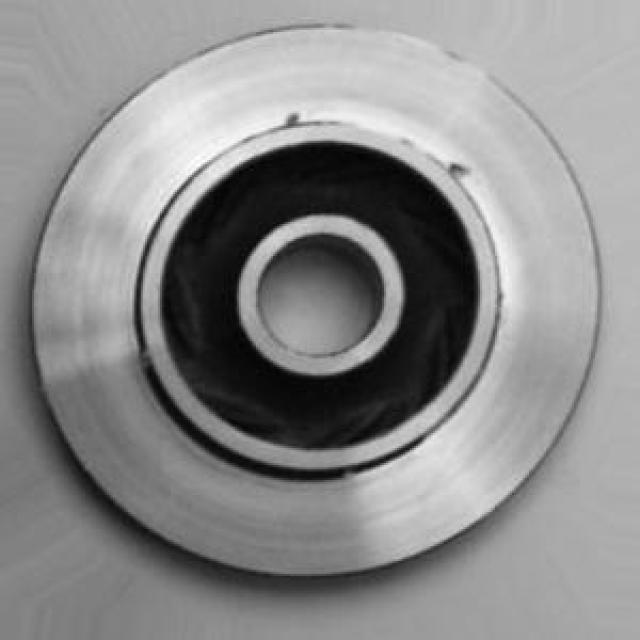Defect: (438, 152, 484, 184), (286, 106, 311, 135)
